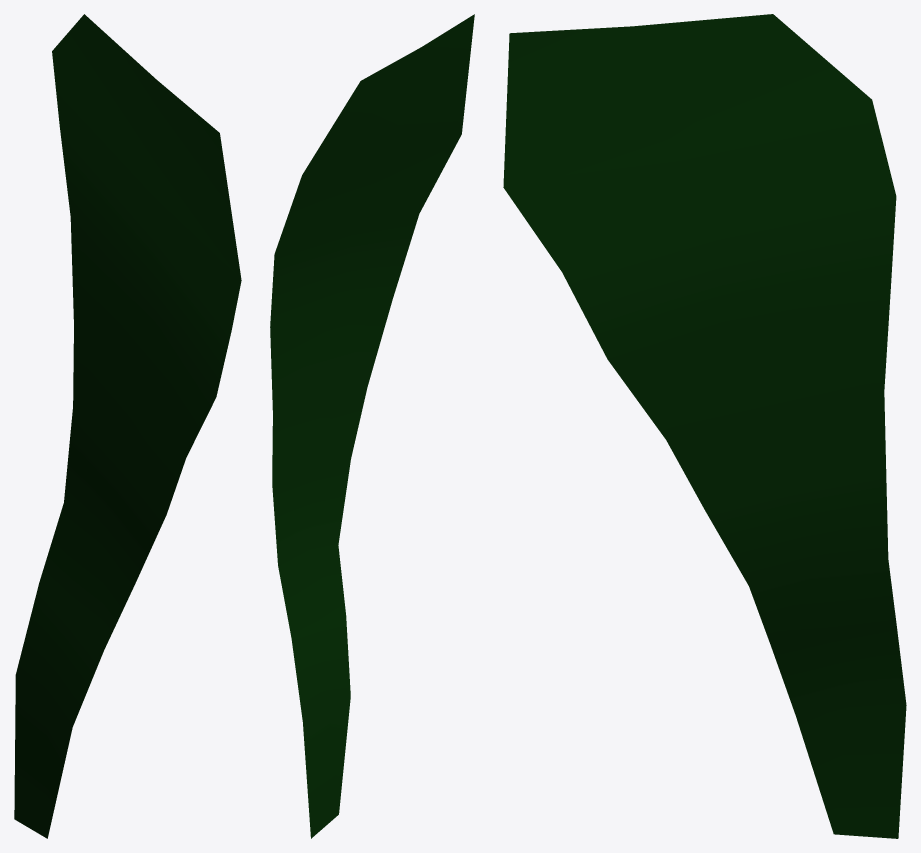
Rendered from Ivy_04.fbx.
The picture shows the model from 3 angles, left to right: view 1: azimuth 30°, elevation 25°; view 2: azimuth 150°, elevation 25°; view 3: azimuth 270°, elevation 25°; orthographic projection. The views are drawn at different scales.
Parts seen in each view (by area): view 1: Ivy_04_LOD0; view 2: Ivy_04_LOD0; view 3: Ivy_04_LOD0.
Boxes of the visible parts, x1=… form: Ivy_04_LOD0: x1=14, y1=14, x2=241, y2=838; Ivy_04_LOD0: x1=270, y1=14, x2=474, y2=838; Ivy_04_LOD0: x1=503, y1=14, x2=906, y2=838.
Size of what is drawn, in the model's own units: 11.5 by 179 by 78.8.
